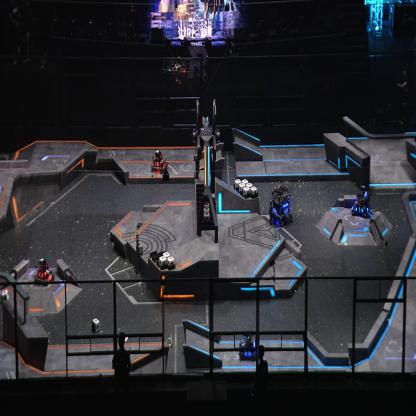car: (268, 184, 293, 227), (350, 184, 372, 218), (33, 257, 55, 288), (238, 332, 258, 362), (151, 150, 168, 174)
